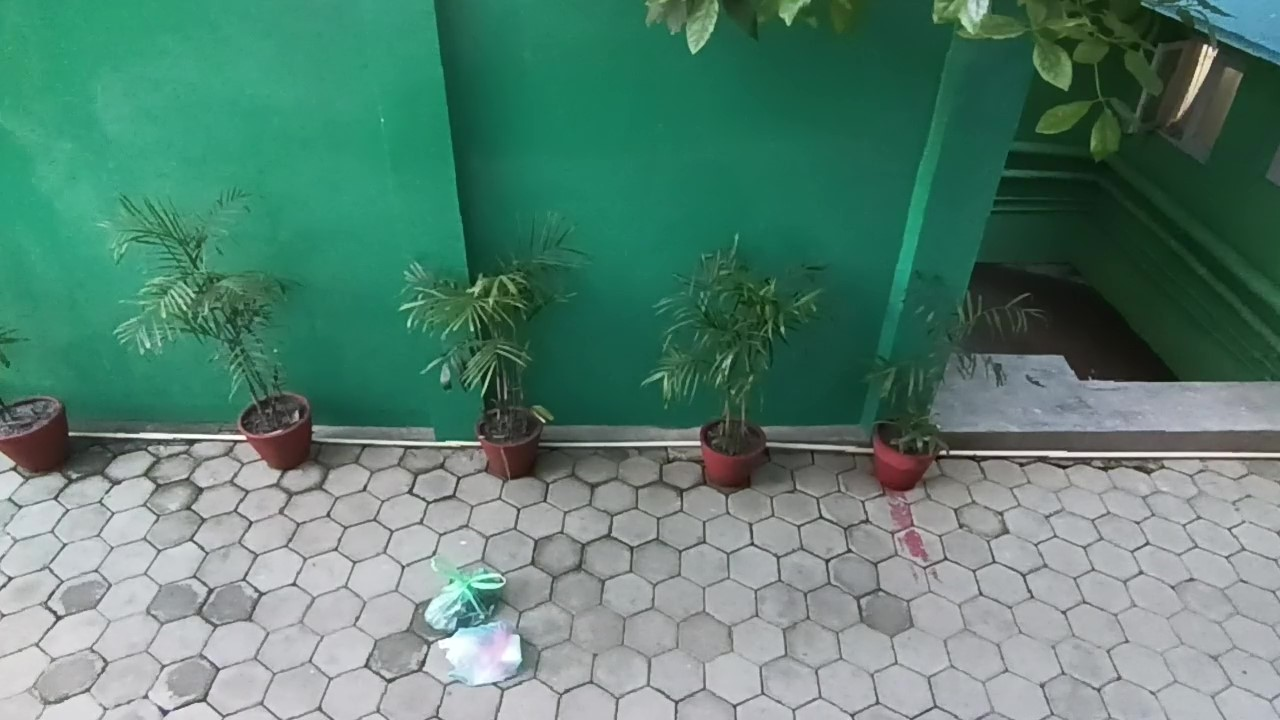thrownwaste: (426, 622, 551, 692), (419, 557, 516, 638)
